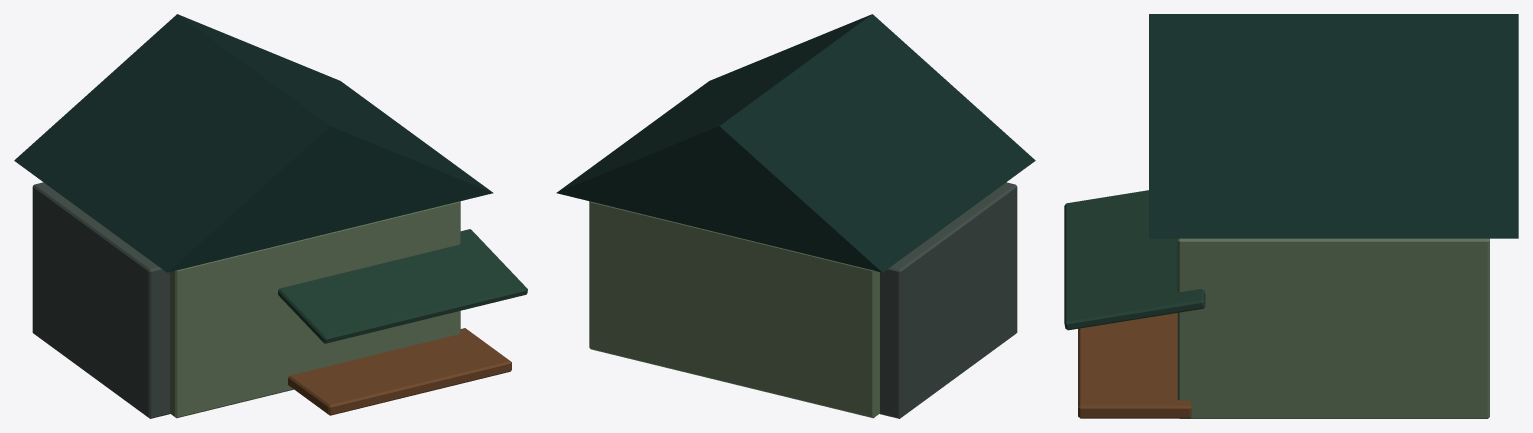
The model's file is LumenCroftCottageAV2.glb.
3 renders of one model, left to right at view 1: azimuth 30°, elevation 25°; view 2: azimuth 150°, elevation 25°; view 3: azimuth 270°, elevation 25°, orthographic. The views are drawn at different scales.
Parts seen in each view (by area): view 1: LumenCroftCottageAV2; view 2: LumenCroftCottageAV2; view 3: LumenCroftCottageAV2.
Boxes of the visible parts, box(x1,y1,x2,y2) form: LumenCroftCottageAV2: box(14, 14, 527, 418); LumenCroftCottageAV2: box(556, 14, 1035, 418); LumenCroftCottageAV2: box(1064, 14, 1518, 418).
Size of the model in its own units: 16 by 12.5 by 15.98.
Materials: 1 (1 with a texture image).
